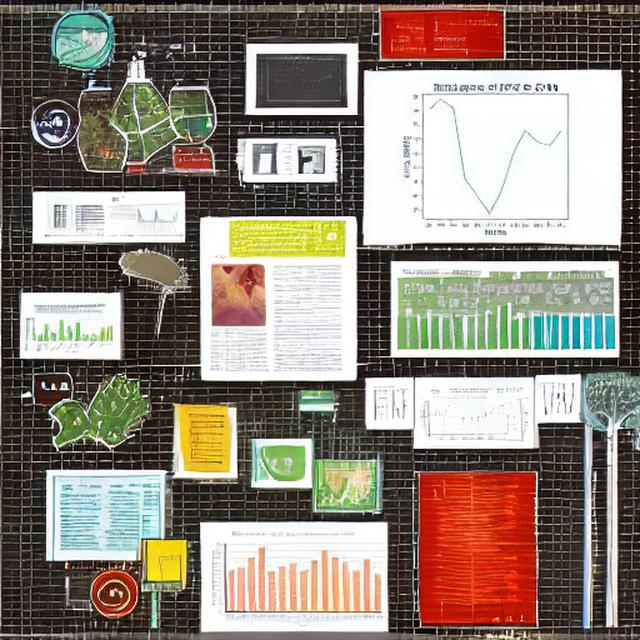Graph: (374, 74, 611, 237), (206, 529, 385, 630), (23, 303, 115, 357), (258, 56, 342, 108), (421, 395, 506, 443), (129, 202, 180, 231)
